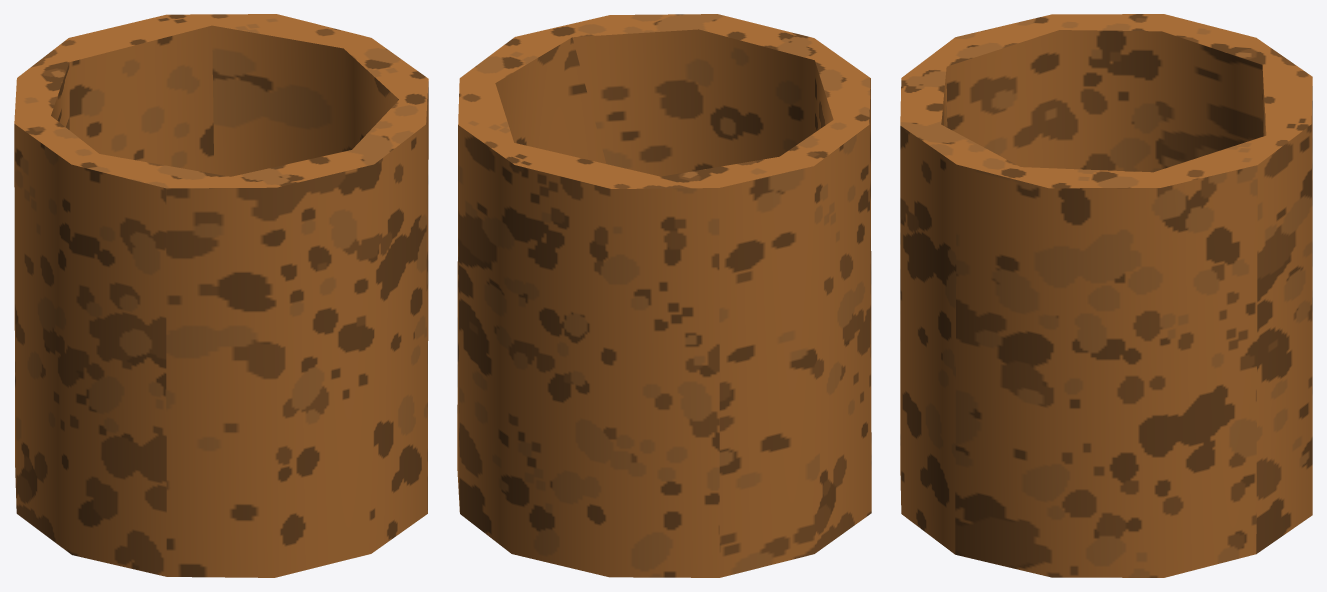
File: pipe.fbx
3 views of the same model, side by side, from view 1: azimuth 30°, elevation 25°; view 2: azimuth 150°, elevation 25°; view 3: azimuth 270°, elevation 25° (orthographic).
Parts seen in each view (by area): view 1: Sewer Pipe; view 2: Sewer Pipe; view 3: Sewer Pipe.
Part boxes in pixels (left/top/right/bottom): Sewer Pipe: left=14, top=14, right=428, bottom=577; Sewer Pipe: left=457, top=14, right=871, bottom=577; Sewer Pipe: left=900, top=14, right=1312, bottom=577.
Size of the model in its own units: 1918 by 2000 by 1918.
1 material, 1 textured.
